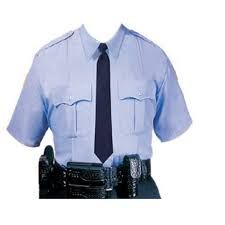gun: (34, 145, 59, 200)
uniform: (32, 27, 160, 198)
